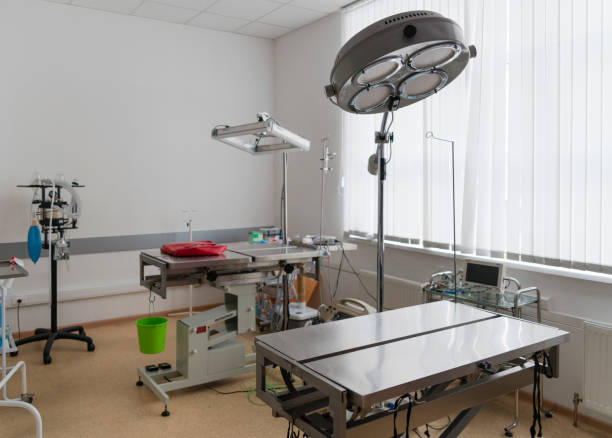bedside_monitor: (460, 260, 508, 290)
operating_bed: (254, 300, 572, 438), (137, 236, 359, 298)
surgical_light: (322, 10, 476, 114)
table: (1, 260, 44, 438)
waste_bin: (134, 314, 168, 355)
